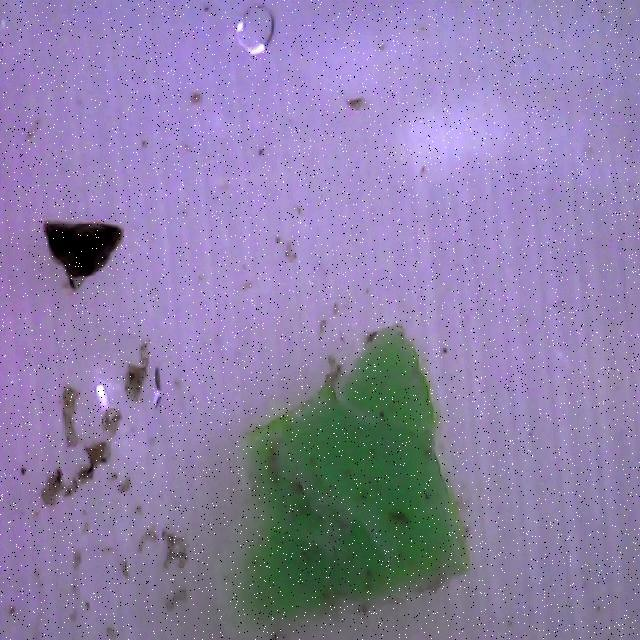fragments: (189, 321, 475, 629), (43, 222, 122, 291)
